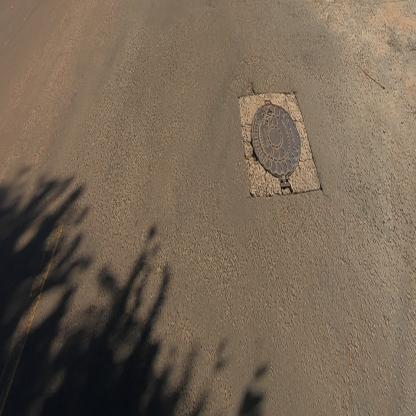manholes: (248, 97, 312, 192)
